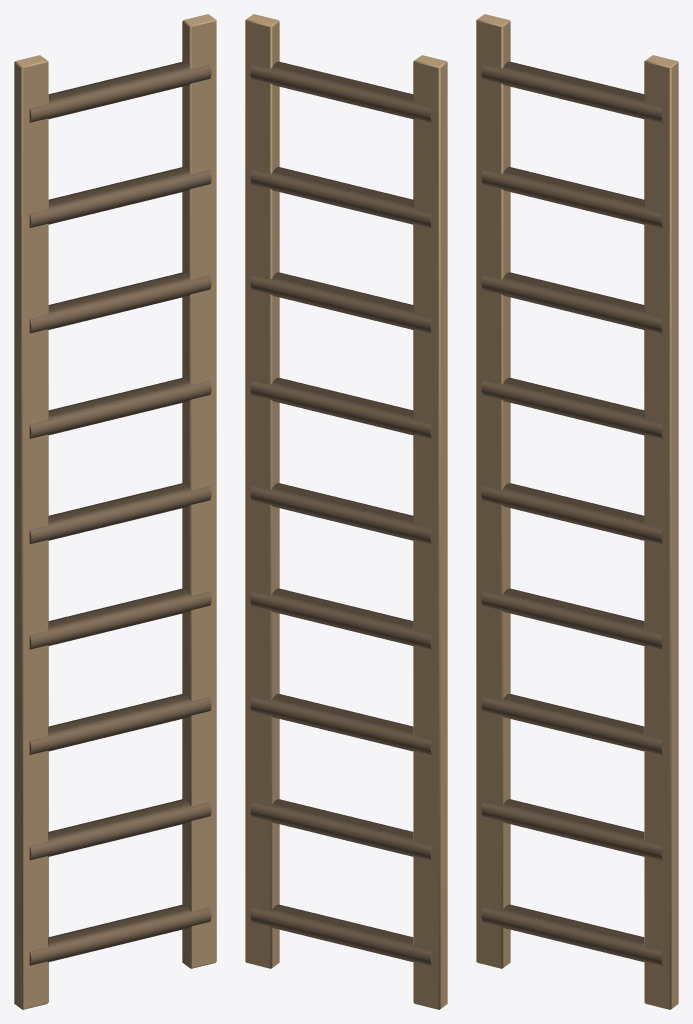
File: rig_ladder_3m.glb
3 renders of one model, left to right at view 1: azimuth 30°, elevation 25°; view 2: azimuth 150°, elevation 25°; view 3: azimuth 330°, elevation 25°, orthographic.
Visible parts, largest first — view 1: rig_ladder_3m; view 2: rig_ladder_3m; view 3: rig_ladder_3m.
Boxes of the visible parts, <box> form: rig_ladder_3m: <box>14,14,216,1009</box>; rig_ladder_3m: <box>245,14,447,1009</box>; rig_ladder_3m: <box>476,14,678,1009</box>.
Bounding box in the file's own units: 0.65 × 3 × 0.07.
